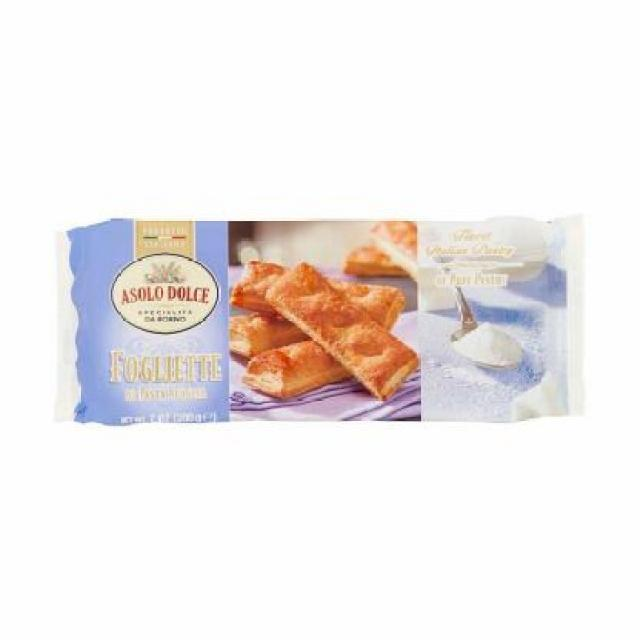Merendine: (49, 214, 589, 428)
